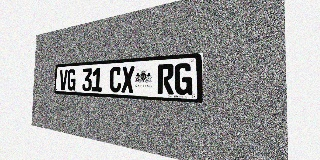1: (92, 68, 102, 92)
3: (82, 68, 92, 91)
C: (109, 66, 122, 92)
G: (174, 63, 193, 95), (67, 69, 76, 91)
R: (157, 64, 174, 95)
V: (59, 69, 68, 90)
X: (121, 66, 135, 93)
